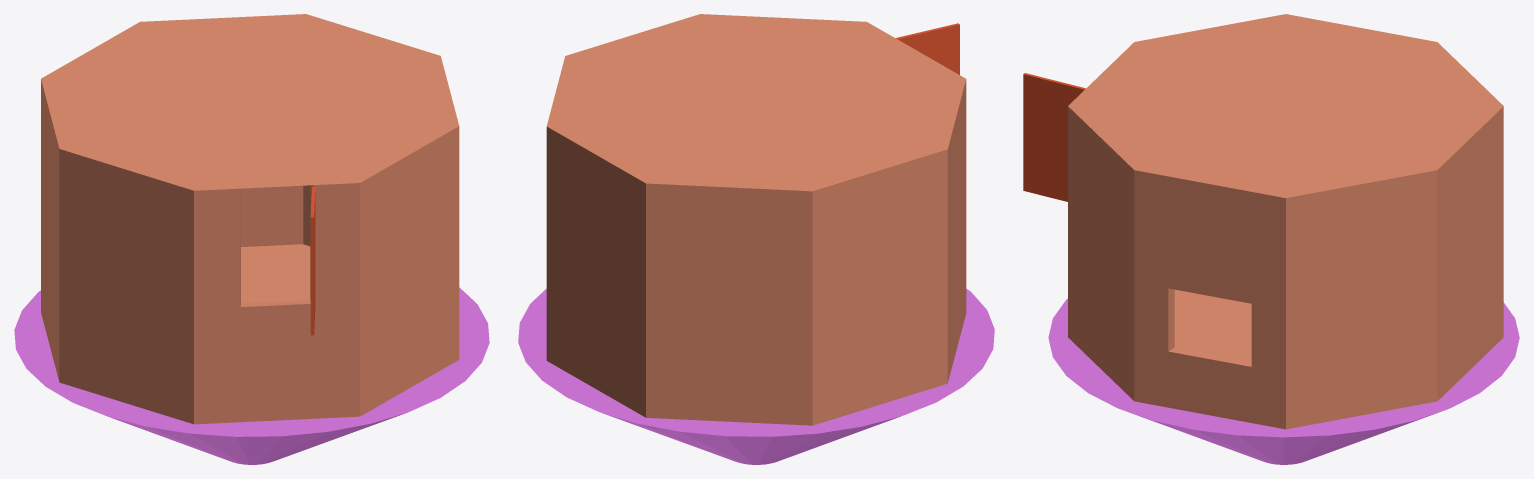
File: Witch hut.fbx
3 views of the same model, side by side, from view 1: azimuth 30°, elevation 25°; view 2: azimuth 150°, elevation 25°; view 3: azimuth 270°, elevation 25° (orthographic).
Parts seen in each view (by area): view 1: Walls, Cone, Door; view 2: Walls, Cone, Door; view 3: Walls, Cone, Door.
Boxes of the visible parts, x1,y1,x2,y2 form: Walls: [41, 14, 459, 424]; Cone: [14, 287, 489, 464]; Door: [310, 186, 315, 335]; Walls: [546, 14, 966, 425]; Cone: [518, 288, 994, 464]; Door: [895, 23, 959, 74]; Walls: [1068, 14, 1503, 429]; Cone: [1048, 298, 1519, 464]; Door: [1023, 73, 1085, 201].
Bounding box in the file's own units: 3000 × 2424 × 3160.
